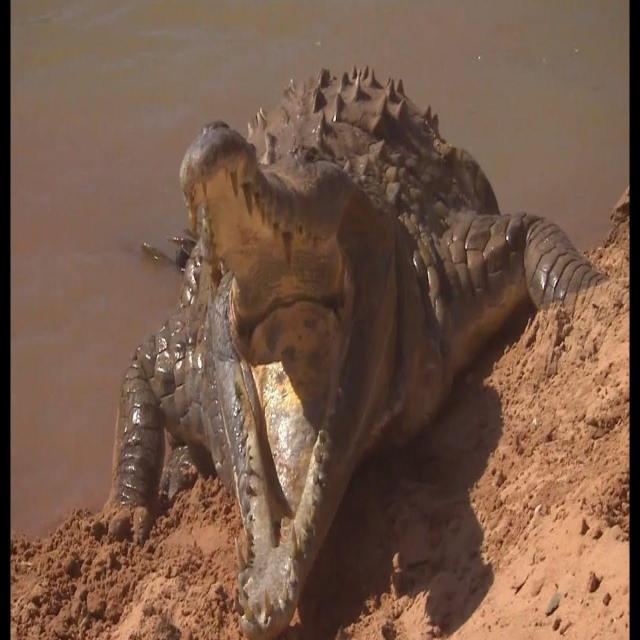crocodile: (84, 43, 618, 639)
